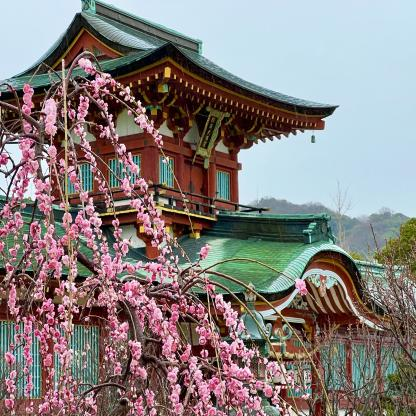Ume: (0, 50, 315, 416)
